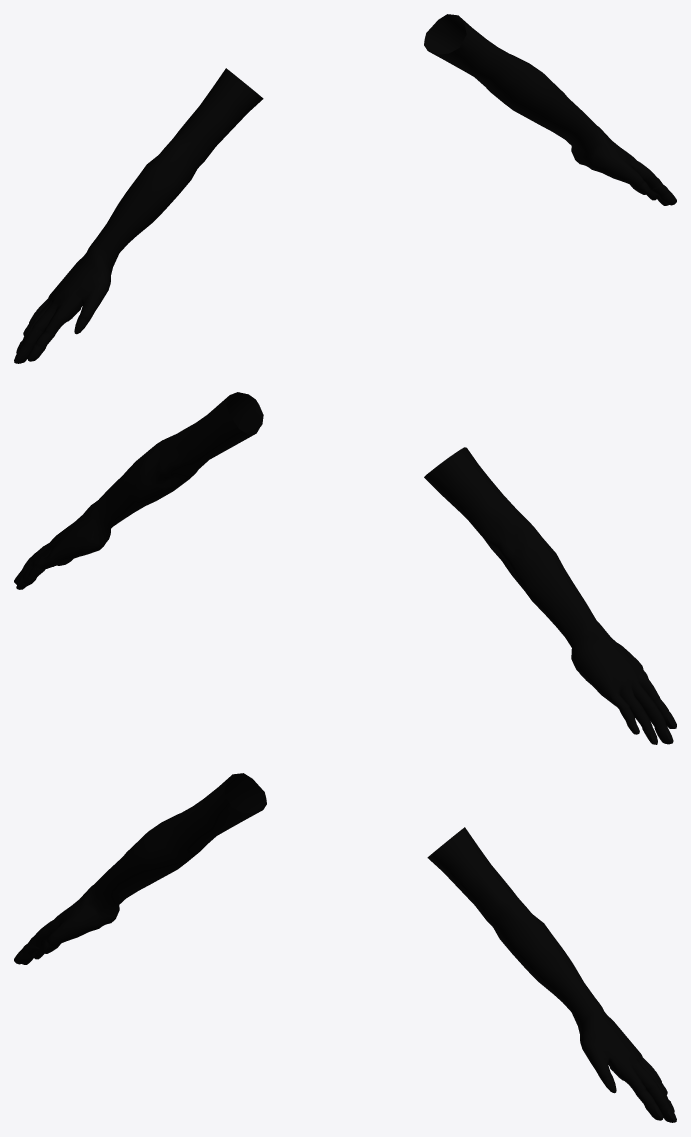
The model's file is Latex-Gloves.fbx.
3 renders of one model, top to bottom at view 1: azimuth 30°, elevation 25°; view 2: azimuth 150°, elevation 25°; view 3: azimuth 330°, elevation 25°, orthographic.
Visible parts, largest first — view 1: カスタム少女_mesh; view 2: カスタム少女_mesh; view 3: カスタム少女_mesh.
Boxes of the visible parts, box(x1,y1,x2,y2) form: カスタム少女_mesh: box(14, 14, 676, 363); カスタム少女_mesh: box(14, 392, 676, 744); カスタム少女_mesh: box(14, 773, 676, 1122).
Bounding box in the file's own units: 108 × 38.04 × 9.98.
Materials: 2 (2 with a texture image).
